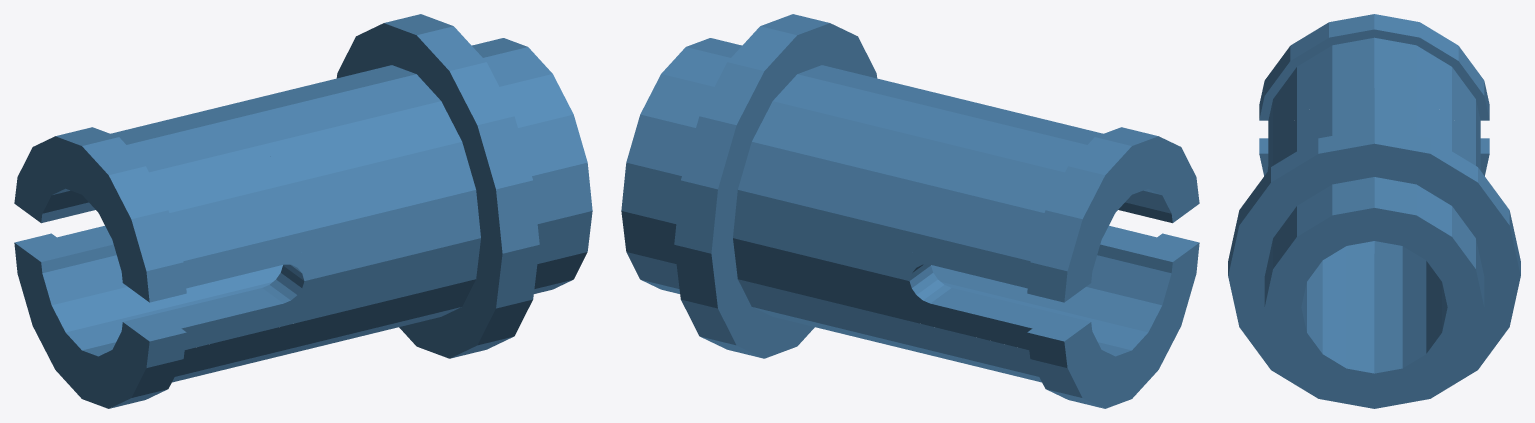
3 renders of one model, left to right at view 1: azimuth 30°, elevation 25°; view 2: azimuth 150°, elevation 25°; view 3: azimuth 270°, elevation 25°, orthographic. The views are drawn at different scales.
Parts seen in each view (by area): view 1: world; view 2: world; view 3: world.
Part boxes in pixels (<box>): world: <box>14,14,592,408</box>; world: <box>621,14,1199,408</box>; world: <box>1228,14,1520,408</box>.
Size of the model in its own units: 0.0096 by 0.0064 by 0.0064.
